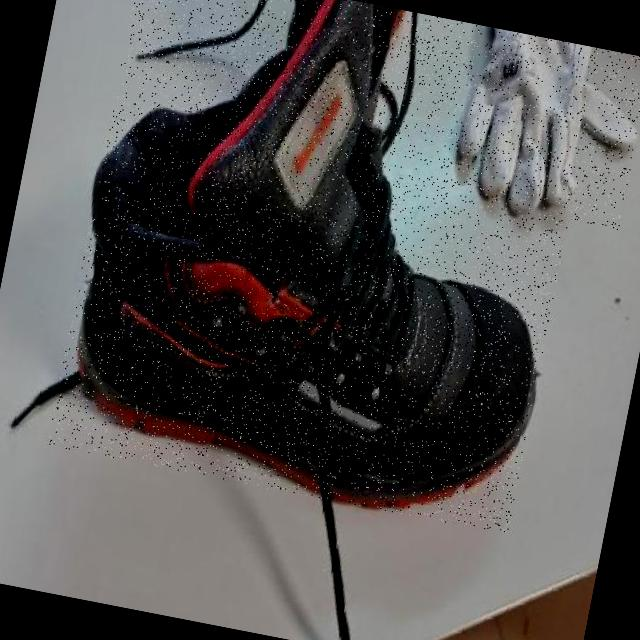boots: (47, 0, 602, 534)
gloves: (447, 27, 640, 234)
